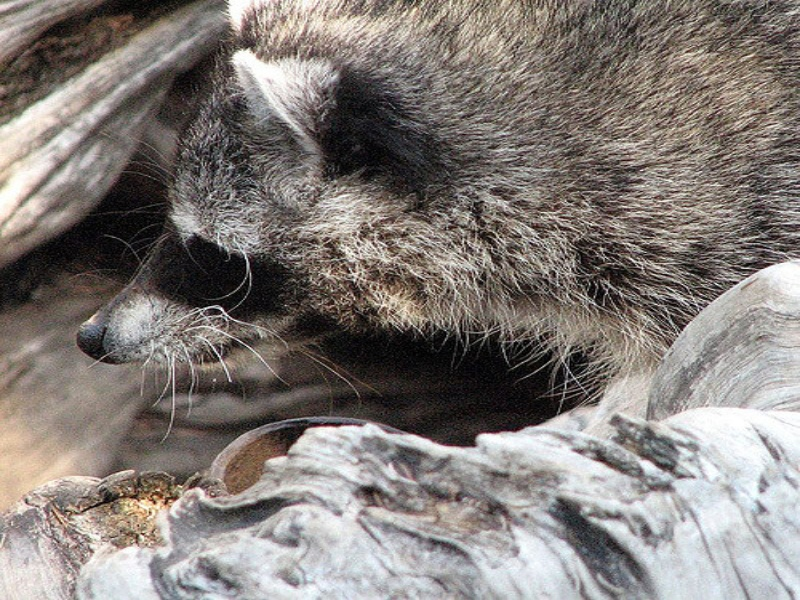raccoon: (71, 1, 798, 413)
